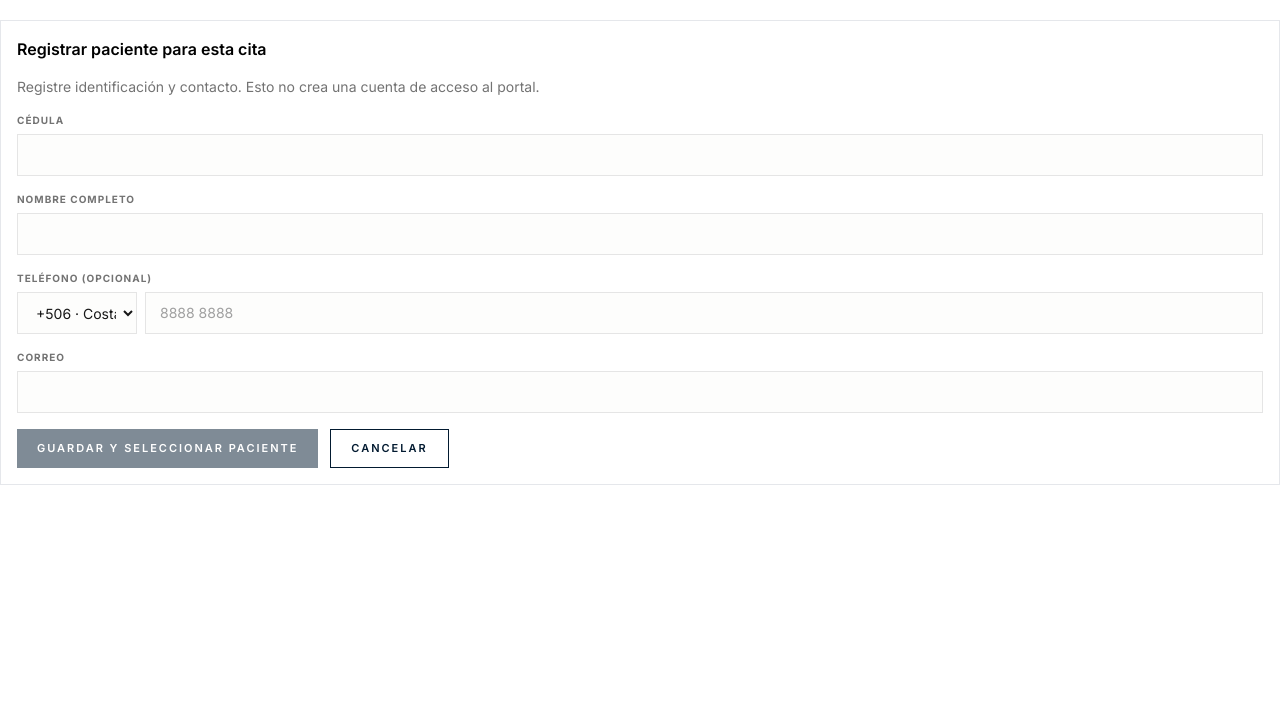
Test: errores de ficha mínima › conserva el formulario y el cupo cuando la cédula ya existe
In the field labelled "Cédula": [640, 155] box [17,134,1263,176], type "123"
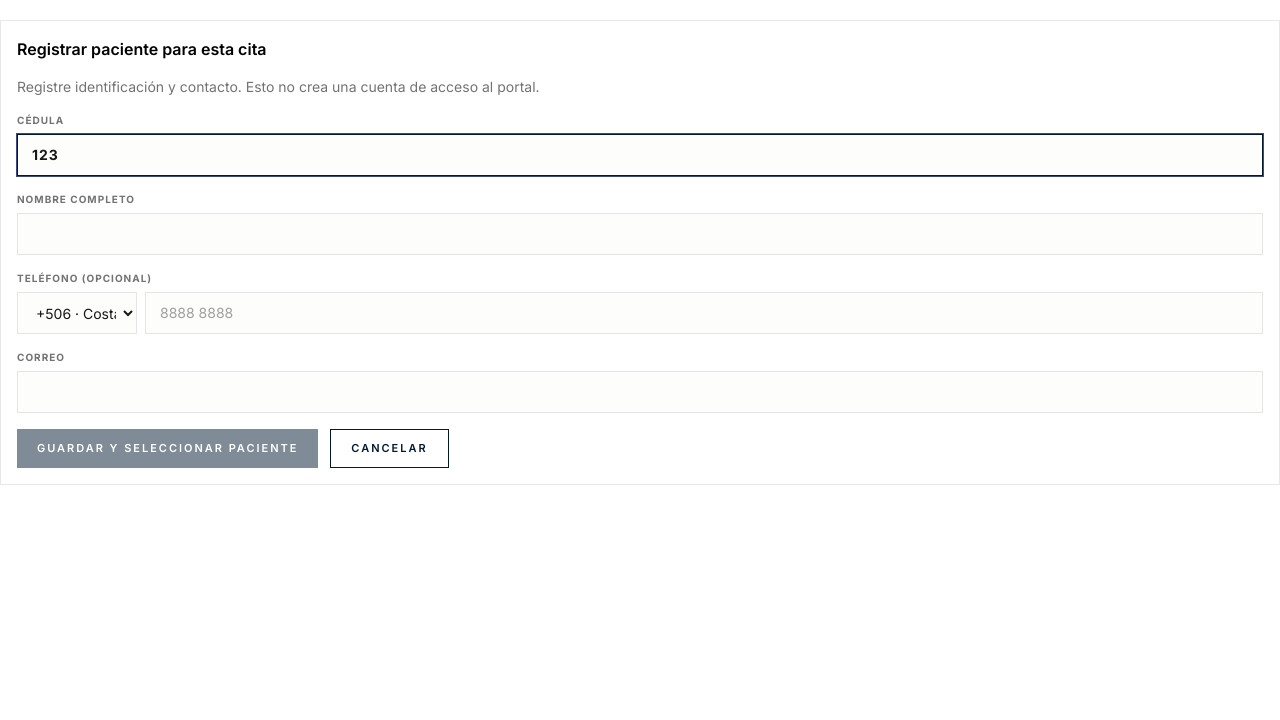
In the field labelled "Nombre completo": [640, 234] box [17,213,1263,255], type "Ana"
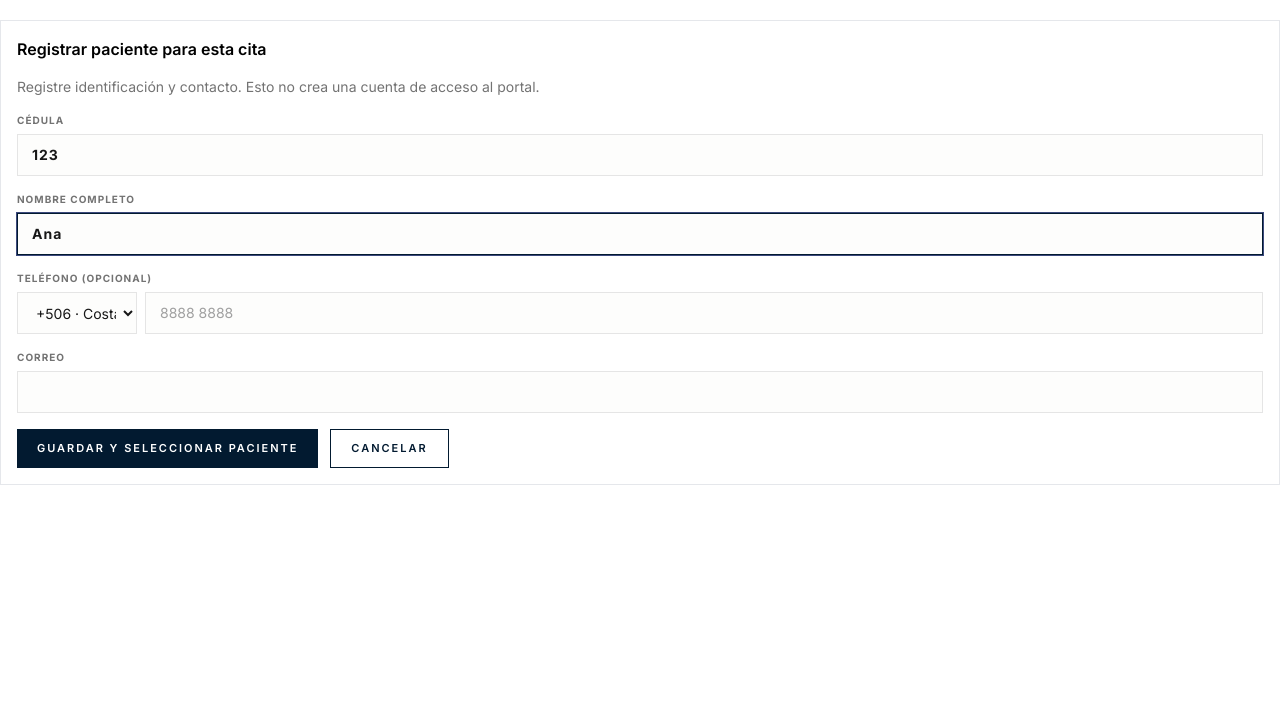
Click the button "Guardar y seleccionar paciente": [168, 448] box [17,429,318,468]
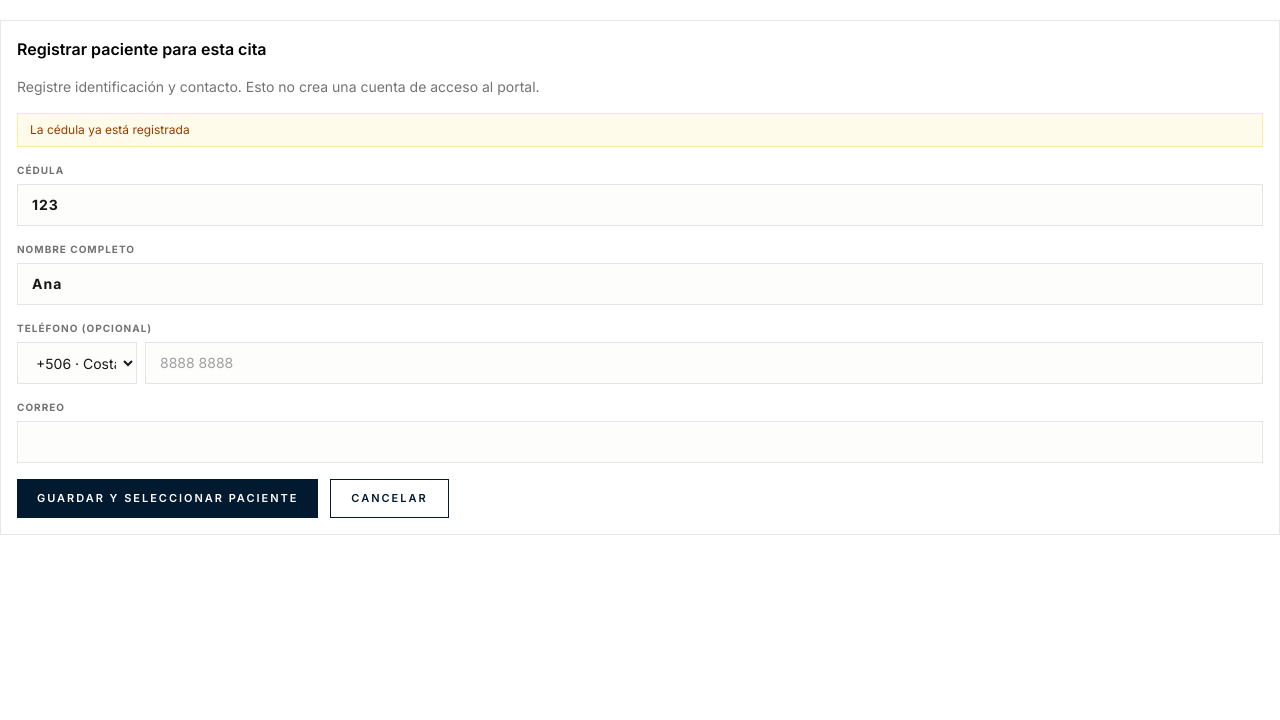
Expected: the text "La cédula ya está registrada" is shown, [17,113,1263,147]
